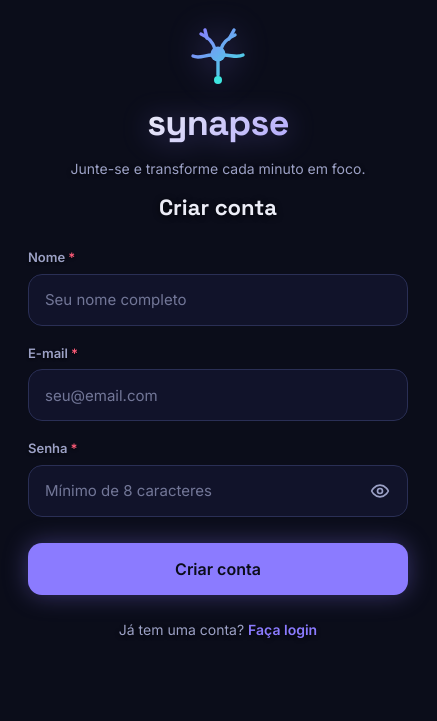
it: Página de Cadastro › exibe erros de validação para campos vazios
Click the button "Criar conta" at (218, 569), box [28,543,408,595]
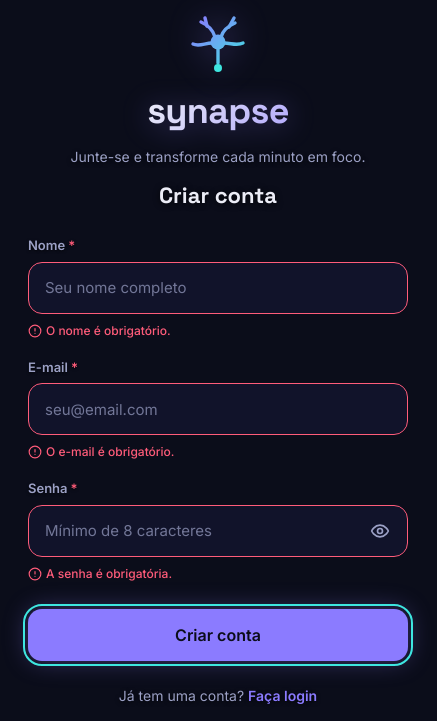
Result: the text "O nome é obrigatório." is shown at [28,323,171,338]
Result: the text "O e-mail é obrigatório." is shown at [28,444,174,459]
Result: the text "A senha é obrigatória." is shown at [28,566,172,581]
